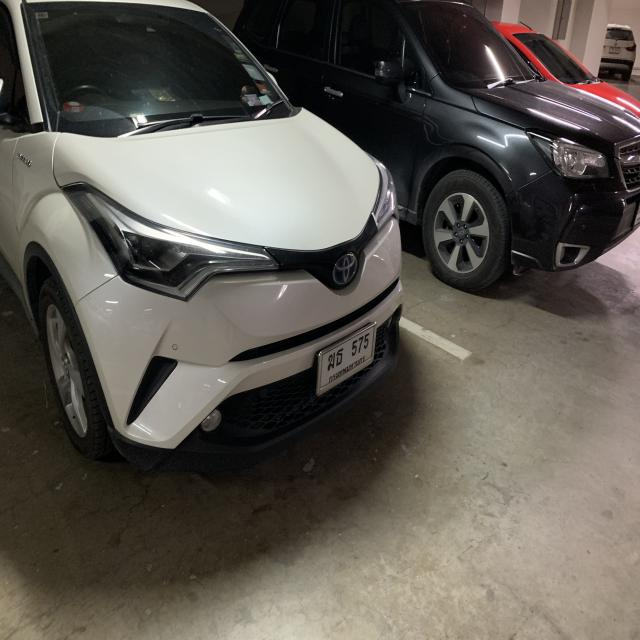license_plate: (313, 319, 380, 398)
